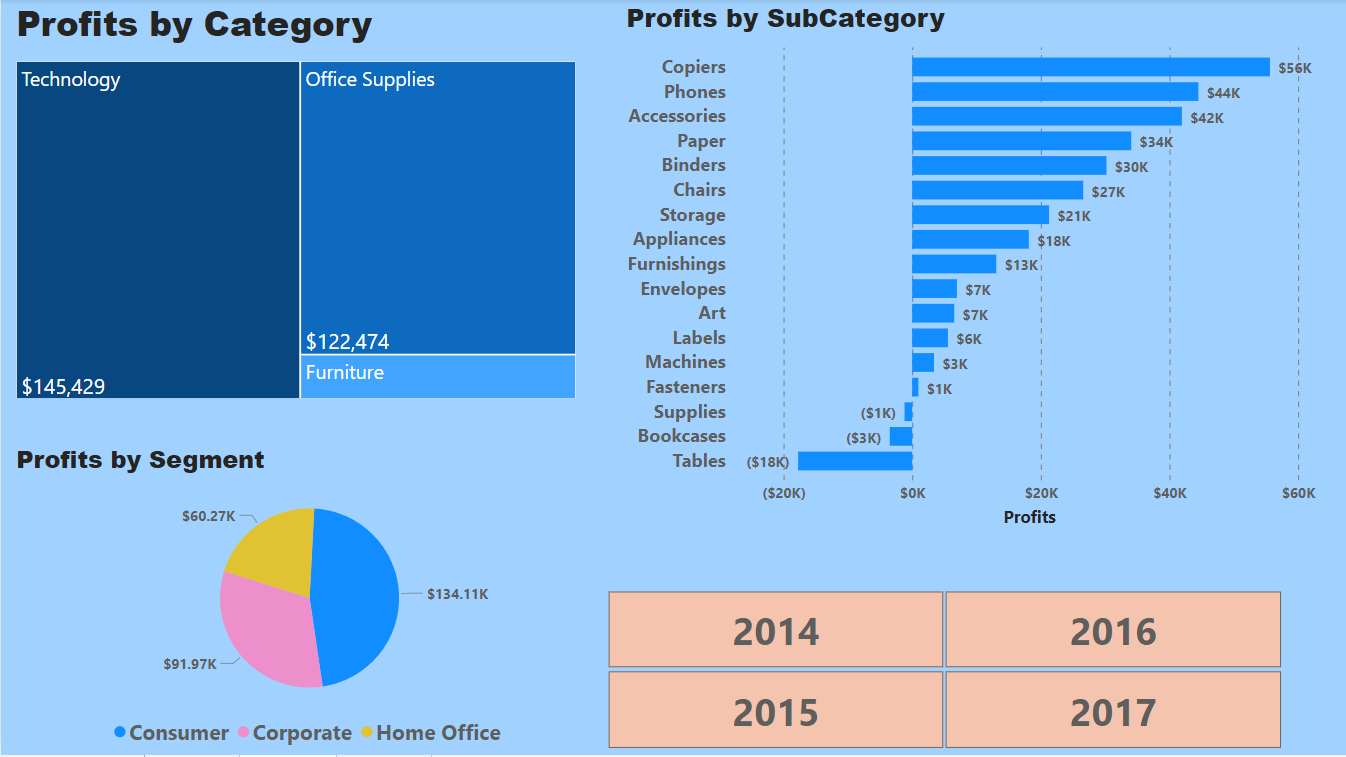

The dashboard page shown, as its layout file describes it:
{"tool":"powerbi","page":{"name":"Page 2","canvas":[1280,720],"ordinal":1},"visuals":[{"type":"treemap","title":"Profits by Category","fields":{"Group":["faizi_csv2.Category"],"Values":["Sum(faizi_csv2.Profit)"]},"box":[9.6,0,542.9,385.3],"z":0},{"type":"clusteredBarChart","title":"Profits by SubCategory","fields":{"Category":["faizi_csv2.SubCategory"],"Y":["Sum(faizi_csv2.Profit)"]},"box":[590.3,0,690.2,508.2],"z":1},{"type":"pieChart","title":"Profits by Segment","fields":{"Category":["faizi_csv2.Segment"],"Y":["Sum(faizi_csv2.Profit)"]},"box":[9.6,420.9,569,298.9],"z":2},{"type":"slicer","fields":{"Values":["faizi_csv2.order_year"]},"box":[552.2,557,690.2,163],"z":3}]}

Visuals, with their boxes in screenshot pixels (x1, y1, x2, y2), scaled from the page's 1280x720 canvas onto the 1346x757 screenshot:
"Profits by Category" treemap: (left=10, top=0, right=581, bottom=405)
"Profits by SubCategory" clusteredBarChart: (left=621, top=0, right=1345, bottom=534)
"Profits by Segment" pieChart: (left=10, top=443, right=608, bottom=756)
slicer - faizi_csv2.order_year: (left=581, top=586, right=1306, bottom=756)
